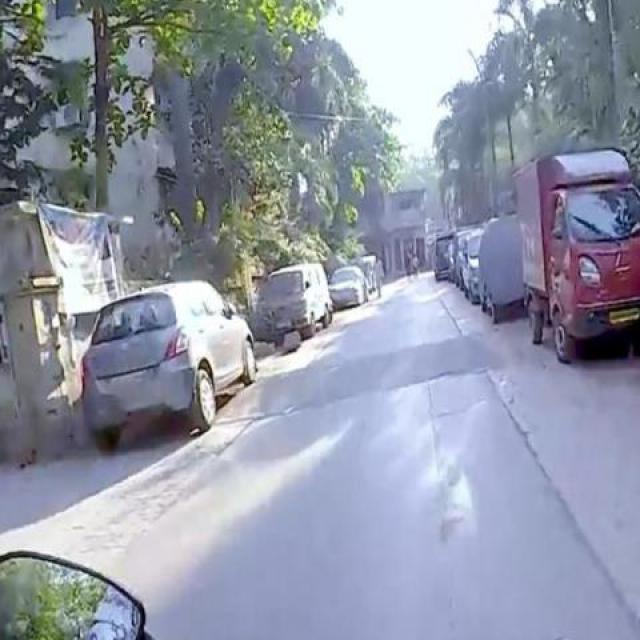Pothole: (90, 455, 235, 536)
Unmarked Bump: (368, 328, 531, 396), (217, 352, 368, 425)
